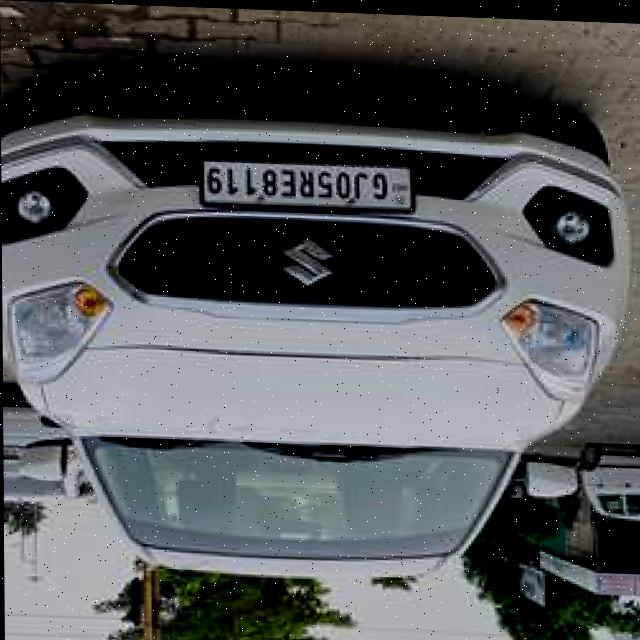plate: (196, 154, 413, 214)
